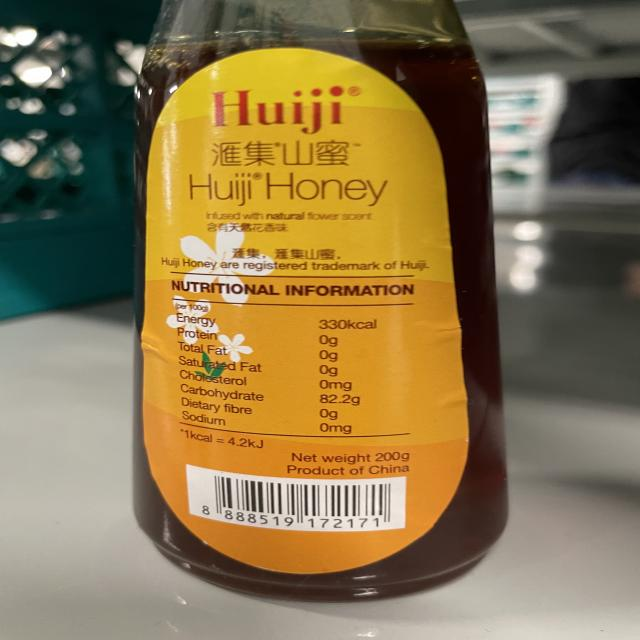object_name: (141, 5, 507, 599)
